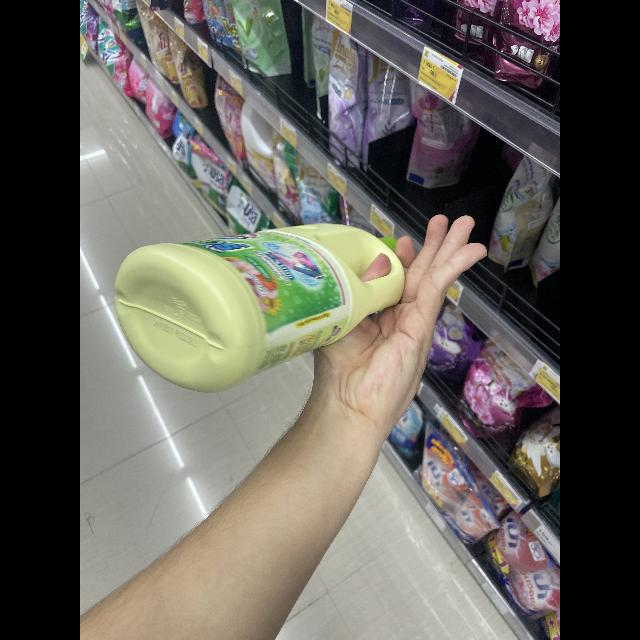chemical_plastic_bottle: (110, 210, 414, 396)
